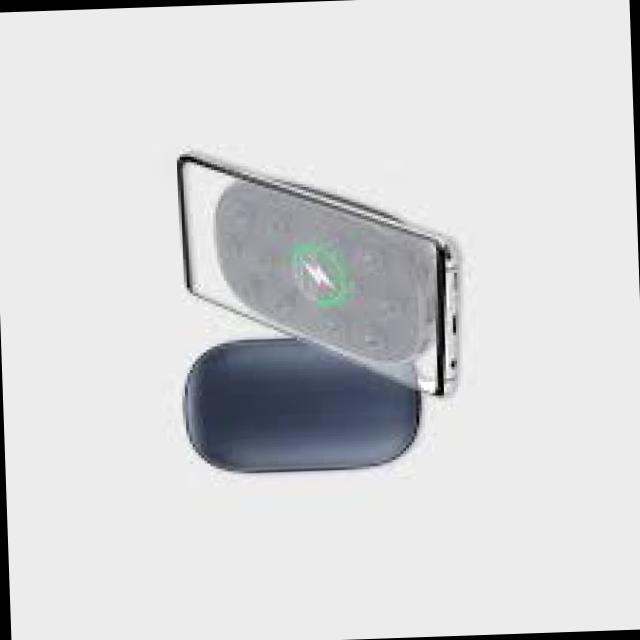portable-charger: (178, 324, 430, 476)
